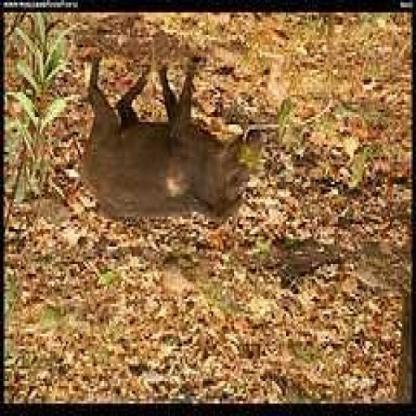boar: (63, 63, 278, 273)
